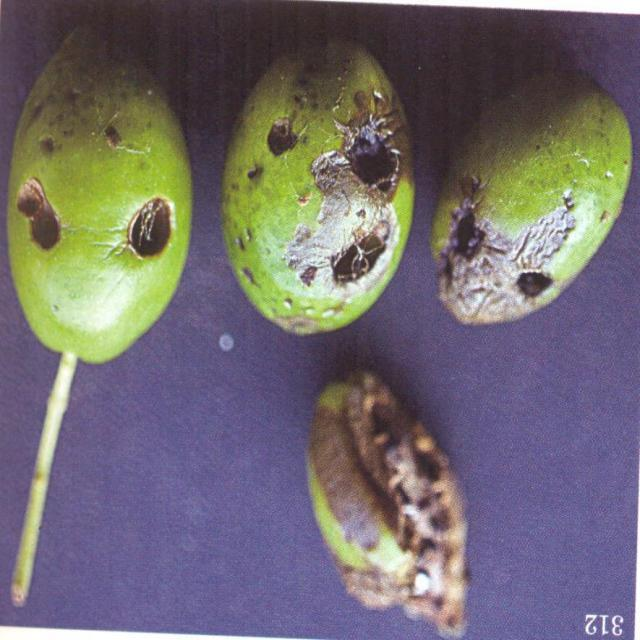Anthracnose: (7, 28, 190, 360), (222, 44, 414, 334), (430, 77, 632, 322), (308, 372, 469, 636)
